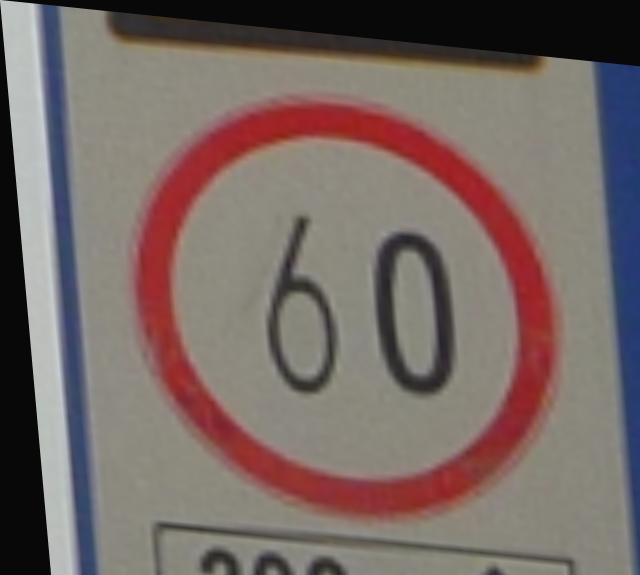limit60: (91, 54, 583, 540)
